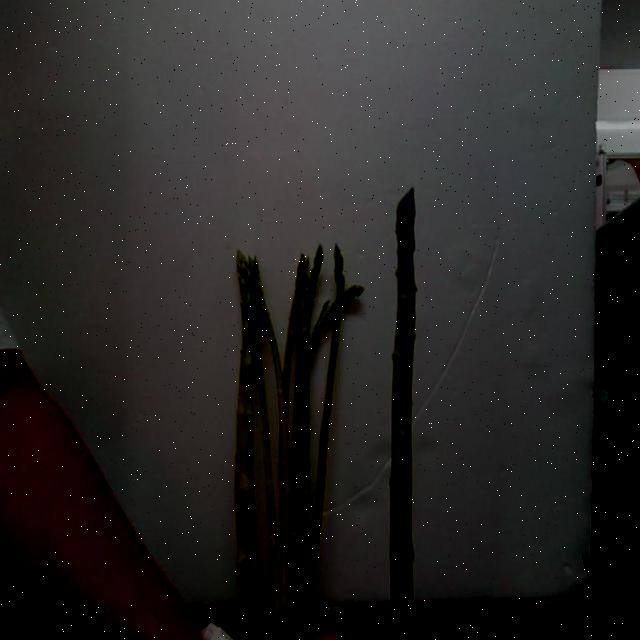aspargus: (298, 244, 346, 640), (391, 191, 418, 640)
